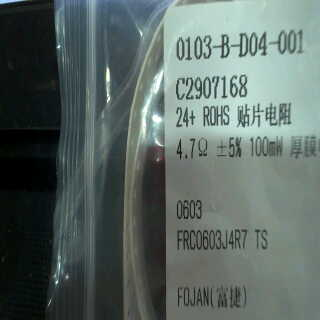4.7R: (173, 137, 214, 161)
